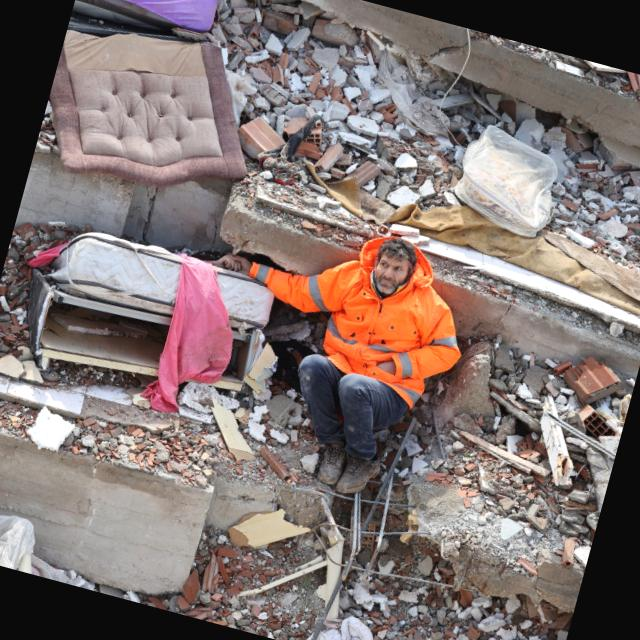no-goggles: (372, 258, 413, 280)
no-helmet: (367, 204, 445, 269)
vest: (222, 242, 472, 420)
